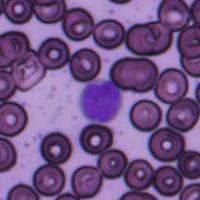L: (78, 78, 122, 124)
